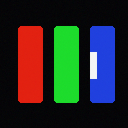4 line_v: (90, 52, 96, 78)
